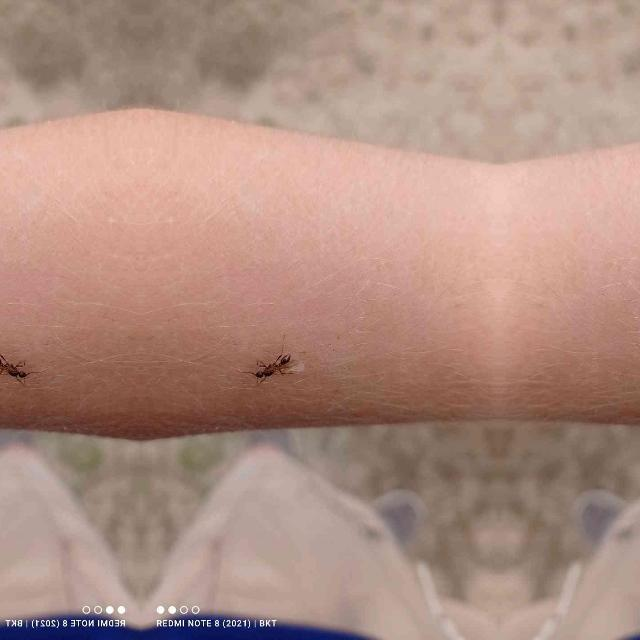Myrmica: (244, 346, 294, 386), (0, 344, 34, 385)
